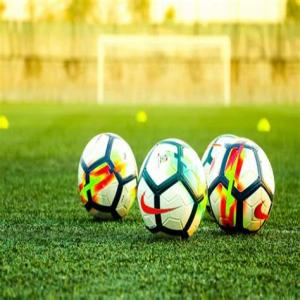Football: (135, 138, 207, 242), (209, 138, 275, 231), (77, 132, 136, 219), (202, 132, 251, 216)
